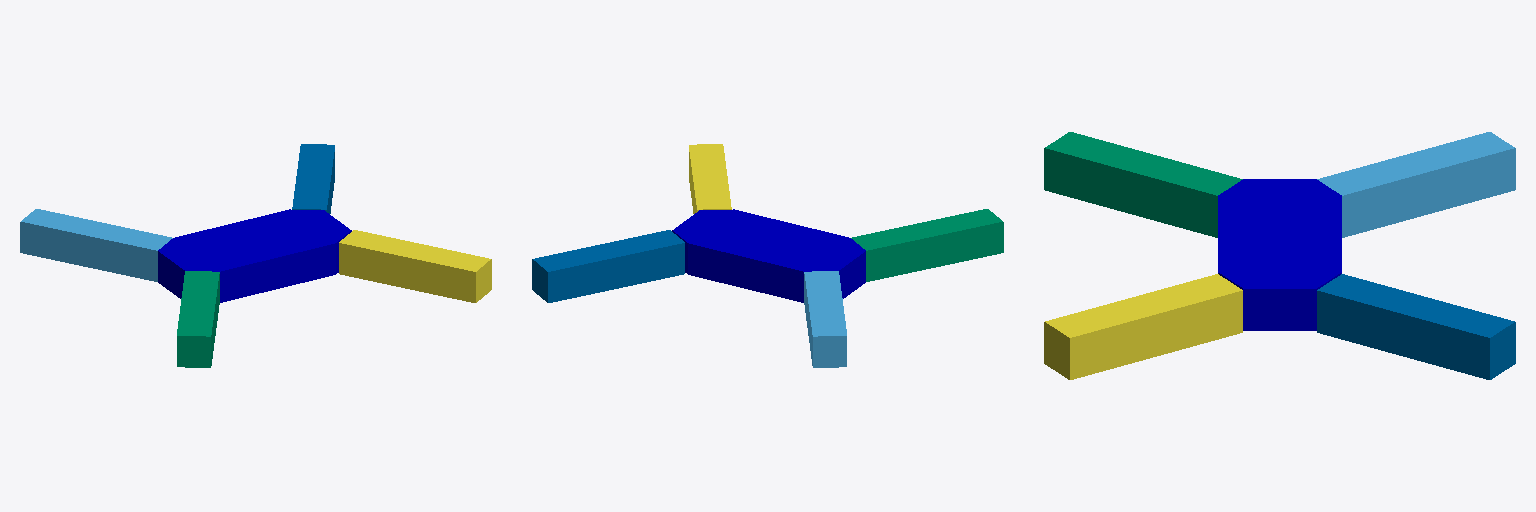
The robot description file, URDF, robot "4Armdrone":
<?xml version="1.0" ?>
<!-- =================================================================================== -->
<!-- |    This document was autogenerated by xacro from 4arms.urdf.xacro               | -->
<!-- |    EDITING THIS FILE BY HAND IS NOT RECOMMENDED                                 | -->
<!-- =================================================================================== -->
<robot name="4Armdrone">
  <material name="blue">
    <color rgba="0 0 0.8 1"/>
  </material>
  <link name="drone">
    <visual name="drone_visual">
      <origin rpy="1.57079 0 0" xyz="-0.09837 0.046645 0"/>
      <geometry>
        <mesh filename="package://projet_robo_redev/meshes/Gazebo_Base_Body.stl" scale="0.001 0.001 0.001"/>
      </geometry>
      <material name="blue"/>
    </visual>
    <collision>
      <origin rpy="1.57079 0 0" xyz="-0.09837 0.046645 0"/>
      <geometry>
        <mesh filename="package://projet_robo_redev/meshes/Gazebo_Base_Body.stl" scale="0.001 0.001 0.001"/>
      </geometry>
    </collision>
  </link>
  <link name="arm_1">
    <visual name="arm_1_link_visual">
      <geometry>
        <mesh filename="package://projet_robo_redev/meshes/Gazebo_Base_arm.stl" scale="0.001 0.001 0.001"/>
      </geometry>
      <origin xyz="0 0 0"/>
    </visual>
    <collision>
      <geometry>
        <mesh filename="package://projet_robo_redev/meshes/Gazebo_Base_arm.stl" scale="0.001 0.001 0.001"/>
      </geometry>
      <origin xyz="0 0 0"/>
    </collision>
  </link>
  <link name="arm_2">
    <visual name="arm_2_link_visual">
      <geometry>
        <mesh filename="package://projet_robo_redev/meshes/Gazebo_Base_arm.stl" scale="0.001 0.001 0.001"/>
      </geometry>
      <origin xyz="0 -0.035 0"/>
    </visual>
    <collision>
      <origin xyz="0 -0.035 0"/>
      <geometry>
        <mesh filename="package://projet_robo_redev/meshes/Gazebo_Base_arm.stl" scale="0.001 0.001 0.001"/>
      </geometry>
    </collision>
  </link>
  <link name="arm_3">
    <visual name="arm_3_link_visual">
      <geometry>
        <mesh filename="package://projet_robo_redev/meshes/Gazebo_Base_arm.stl" scale="0.001 0.001 0.001"/>
      </geometry>
      <origin xyz="0 0 0"/>
    </visual>
    <collision>
      <geometry>
        <mesh filename="package://projet_robo_redev/meshes/Gazebo_Base_arm.stl" scale="0.001 0.001 0.001"/>
      </geometry>
      <origin xyz="0 0 0"/>
    </collision>
  </link>
  <link name="arm_4">
    <visual name="arm_4_link_visual">
      <geometry>
        <mesh filename="package://projet_robo_redev/meshes/Gazebo_Base_arm.stl" scale="0.001 0.001 0.001"/>
      </geometry>
      <origin xyz="0 -0.035 0"/>
    </visual>
    <collision>
      <geometry>
        <mesh filename="package://projet_robo_redev/meshes/Gazebo_Base_arm.stl" scale="0.001 0.001 0.001"/>
      </geometry>
      <origin xyz="0 -0.035 0"/>
    </collision>
  </link>
  <joint name="base_to_arm_1" type="revolute">
    <parent link="drone"/>
    <child link="arm_1"/>
    <origin rpy="0 0 2.1495963267948968" xyz="-0.06906999999999999 0.046645 0"/>
    <axis xyz="0.0 1.0 0.0"/>
    <limit effort="1000.0" lower="0.0" upper="1.74" velocity="1000.0"/>
  </joint>
  <joint name="base_to_arm_2" type="revolute">
    <parent link="drone"/>
    <child link="arm_2"/>
    <origin rpy="0 0 -2.1495963267948968" xyz="-0.06906999999999999 -0.046645 0"/>
    <axis xyz="0.0 1.0 0.0"/>
    <limit effort="1000.0" lower="0.0" upper="1.74" velocity="1000.0"/>
  </joint>
  <joint name="base_to_arm_3" type="revolute">
    <parent link="drone"/>
    <child link="arm_3"/>
    <origin rpy="0 0 -0.9919963267948966" xyz="0.06906999999999999 -0.046645 0"/>
    <axis xyz="0.0 1.0 0.0"/>
    <limit effort="1000.0" lower="0.0" upper="1.74" velocity="1000.0"/>
  </joint>
  <joint name="base_to_arm_4" type="revolute">
    <parent link="drone"/>
    <child link="arm_4"/>
    <origin rpy="0 0 0.9919963267948966" xyz="0.06906999999999999 0.046645 0"/>
    <axis xyz="0.0 1.0 0.0"/>
    <limit effort="1000.0" lower="0.0" upper="1.74" velocity="1000.0"/>
  </joint>
  <link name="prop_1">
    <visual name="prop_1_link_visual">
      <geometry>
        <mesh filename="package://projet_robo_redev/meshes/1345_prop_ccw.stl"/>
      </geometry>
      <origin rpy="0 0 0" xyz="-0.03 -0.17 0"/>
    </visual>
  </link>
  <joint name="prop_to_arm_1" type="continuous">
    <parent link="arm_1"/>
    <child link="prop_1"/>
    <origin rpy="0 0 0" xyz="0.155 0.0175 0"/>
    <axis xyz="0.0 0.0 1"/>
  </joint>
  <link name="prop_2">
    <visual name="prop_2_link_visual">
      <geometry>
        <mesh filename="package://projet_robo_redev/meshes/1345_prop_cw.stl"/>
      </geometry>
      <origin rpy="0 0 0" xyz="-0.03 -0.17 0"/>
    </visual>
  </link>
  <joint name="prop_to_arm_2" type="continuous">
    <parent link="arm_2"/>
    <child link="prop_2"/>
    <origin rpy="0 0 0" xyz="0.155 -0.0175 0"/>
    <axis xyz="0.0 0.0 1"/>
  </joint>
  <link name="prop_3">
    <visual name="prop_3_link_visual">
      <geometry>
        <mesh filename="package://projet_robo_redev/meshes/1345_prop_ccw.stl"/>
      </geometry>
      <origin rpy="0 0 0" xyz="-0.03 -0.17 0"/>
    </visual>
  </link>
  <joint name="prop_to_arm_3" type="continuous">
    <parent link="arm_3"/>
    <child link="prop_3"/>
    <origin rpy="0 0 0" xyz="0.155 0.0175 0"/>
    <axis xyz="0.0 0.0 1"/>
  </joint>
  <link name="prop_4">
    <visual name="prop_4_link_visual">
      <geometry>
        <mesh filename="package://projet_robo_redev/meshes/1345_prop_cw.stl"/>
      </geometry>
      <origin rpy="0 0 0" xyz="-0.03 -0.17 0"/>
    </visual>
  </link>
  <joint name="prop_to_arm_4" type="continuous">
    <parent link="arm_4"/>
    <child link="prop_4"/>
    <origin rpy="0 0 0" xyz="0.155 -0.0175 0"/>
    <axis xyz="0.0 0.0 1"/>
  </joint>
</robot>

--- What the picture shows (computed from the rendered views, not written in the file) ---
3 views of the same robot in one strip: view 1: azimuth 30°, elevation 25°; view 2: azimuth 150°, elevation 25°; view 3: azimuth 270°, elevation 25° (orthographic).
Robot: 4Armdrone — 9 links, 8 joints (4 revolute, 4 continuous); root link drone; default pose: every joint at zero.
Visible links, largest first — view 1: drone, arm_3, arm_1, arm_2, arm_4; view 2: drone, arm_4, arm_2, arm_1, arm_3; view 3: drone, arm_3, arm_4, arm_1, arm_2.
Boxes of the visible links, x1=… form: drone: x1=158, y1=209, x2=351, y2=302; arm_3: x1=339, y1=230, x2=491, y2=302; arm_1: x1=20, y1=209, x2=172, y2=281; arm_2: x1=177, y1=271, x2=219, y2=367; arm_4: x1=292, y1=144, x2=334, y2=213; drone: x1=672, y1=209, x2=865, y2=302; arm_4: x1=532, y1=230, x2=684, y2=302; arm_2: x1=851, y1=209, x2=1003, y2=281; arm_1: x1=804, y1=271, x2=846, y2=367; arm_3: x1=689, y1=144, x2=731, y2=213; drone: x1=1218, y1=179, x2=1341, y2=330; arm_3: x1=1044, y1=274, x2=1242, y2=379; arm_4: x1=1317, y1=274, x2=1515, y2=379; arm_1: x1=1317, y1=132, x2=1515, y2=237; arm_2: x1=1044, y1=132, x2=1242, y2=237.
Bounding box of the posed robot: 0.3663 × 0.3528 × 0.035 m (x, y, z).
Meshes: 4 distinct files referenced, 5 mesh visuals loaded (2 binary STL); not drawn: 4 (reference not matched to a file when rendering).